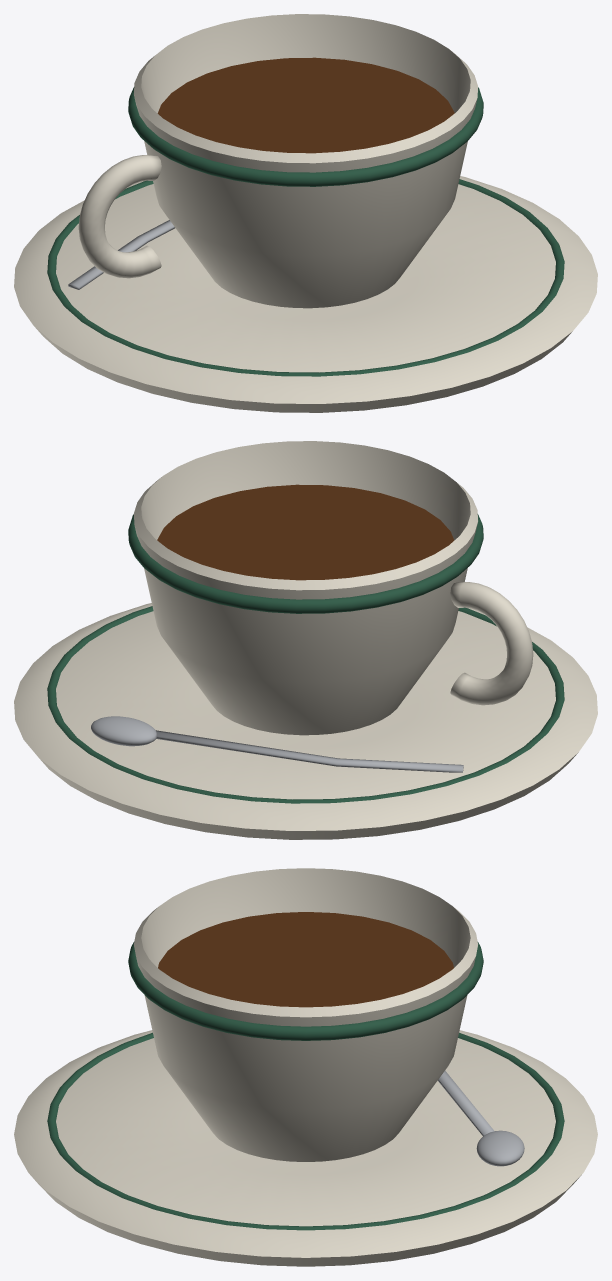
File: TeaCup.fbx
3 views of the same model, one above another, from view 1: azimuth 30°, elevation 25°; view 2: azimuth 150°, elevation 25°; view 3: azimuth 270°, elevation 25° (orthographic).
Visible parts, largest first — view 1: TeaCup; view 2: TeaCup; view 3: TeaCup.
Part boxes in pixels (<box>): TeaCup: <box>14,14,597,412</box>; TeaCup: <box>14,441,597,839</box>; TeaCup: <box>14,868,597,1266</box>.
Bounding box in the file's own units: 0.156 × 0.062 × 0.156.
